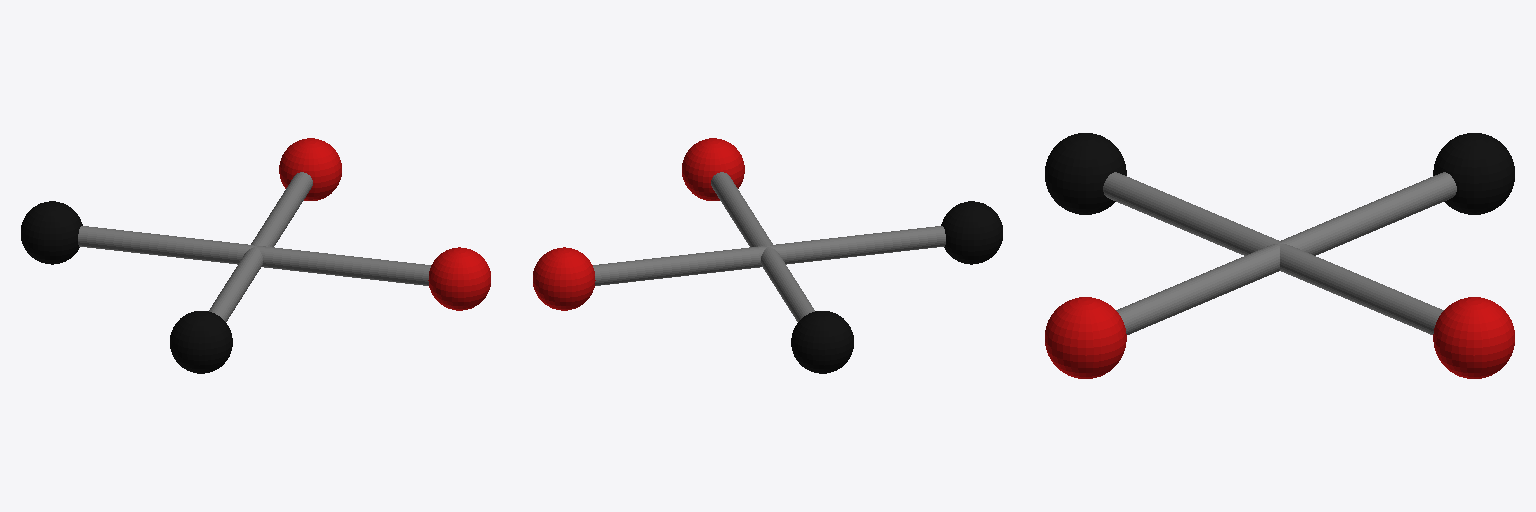
robot.urdf — general:
<?xml version="1.0" ?>

<!-- General quadrotor for wide domain randomization: two crossed arms and four motor spheres.
     The drone parameters and their randomization ranges are in hydra_configs/drone/general.yaml, whose
     nominals are written into Genesis at build. kf and km are in <properties> because Genesis needs them to
     load. Front motors red, back motors black. -->

<robot name="general">

  <properties kf="4.5e-8" km="5.4e-10" />

  <link name="base_link">

    <inertial>
      <origin rpy="0 0 0" xyz="0 0 0"/>
      <mass value="1.0"/>
      <inertia ixx="0.01" ixy="0.0" ixz="0.0" iyy="0.01" iyz="0.0" izz="0.016"/>
    </inertial>

    <visual>
      <origin rpy="0 1.570796 0.785398" xyz="0 0 0"/>
      <geometry>
        <cylinder radius="0.01" length="0.4"/>
      </geometry>
      <material name="grey"><color rgba="0.5 0.5 0.5 1"/></material>
    </visual>

    <visual>
      <origin rpy="0 1.570796 -0.785398" xyz="0 0 0"/>
      <geometry>
        <cylinder radius="0.01" length="0.4"/>
      </geometry>
      <material name="grey"><color rgba="0.5 0.5 0.5 1"/></material>
    </visual>

    <collision>
      <origin rpy="0 0 0" xyz="0 0 0"/>
      <geometry>
        <cylinder radius="0.05" length="0.04"/>
      </geometry>
    </collision>

  </link>

  <!-- Rotors as on the a300/x500: 0 front right (ccw), 1 back left (ccw), 2 front left (cw), 3 back right (cw),
       so propellers_spin=(-1, -1, 1, 1). Thrust is applied at each prop link's inertial origin. -->
  <link name="prop0_link">
    <inertial>
      <origin rpy="0 0 0" xyz="0.141421 -0.141421 0"/>
      <mass value="0"/>
      <inertia ixx="0" ixy="0" ixz="0" iyy="0" iyz="0" izz="0"/>
    </inertial>
    <visual>
      <origin rpy="0 0 0" xyz="0.141421 -0.141421 0"/>
      <geometry>
        <sphere radius="0.03"/>
      </geometry>
      <material name="red"><color rgba="0.8 0.1 0.1 1"/></material>
    </visual>
  </link>
  <joint name="prop0_joint" type="fixed">
    <parent link="base_link"/>
    <child link="prop0_link"/>
  </joint>

  <link name="prop1_link">
    <inertial>
      <origin rpy="0 0 0" xyz="-0.141421 0.141421 0"/>
      <mass value="0"/>
      <inertia ixx="0" ixy="0" ixz="0" iyy="0" iyz="0" izz="0"/>
    </inertial>
    <visual>
      <origin rpy="0 0 0" xyz="-0.141421 0.141421 0"/>
      <geometry>
        <sphere radius="0.03"/>
      </geometry>
      <material name="black"><color rgba="0.1 0.1 0.1 1"/></material>
    </visual>
  </link>
  <joint name="prop1_joint" type="fixed">
    <parent link="base_link"/>
    <child link="prop1_link"/>
  </joint>

  <link name="prop2_link">
    <inertial>
      <origin rpy="0 0 0" xyz="0.141421 0.141421 0"/>
      <mass value="0"/>
      <inertia ixx="0" ixy="0" ixz="0" iyy="0" iyz="0" izz="0"/>
    </inertial>
    <visual>
      <origin rpy="0 0 0" xyz="0.141421 0.141421 0"/>
      <geometry>
        <sphere radius="0.03"/>
      </geometry>
      <material name="red"><color rgba="0.8 0.1 0.1 1"/></material>
    </visual>
  </link>
  <joint name="prop2_joint" type="fixed">
    <parent link="base_link"/>
    <child link="prop2_link"/>
  </joint>

  <link name="prop3_link">
    <inertial>
      <origin rpy="0 0 0" xyz="-0.141421 -0.141421 0"/>
      <mass value="0"/>
      <inertia ixx="0" ixy="0" ixz="0" iyy="0" iyz="0" izz="0"/>
    </inertial>
    <visual>
      <origin rpy="0 0 0" xyz="-0.141421 -0.141421 0"/>
      <geometry>
        <sphere radius="0.03"/>
      </geometry>
      <material name="black"><color rgba="0.1 0.1 0.1 1"/></material>
    </visual>
  </link>
  <joint name="prop3_joint" type="fixed">
    <parent link="base_link"/>
    <child link="prop3_link"/>
  </joint>

</robot>

--- Render facts (derived) ---
Views: 3 orthographic renders of the robot side by side, from view 1: azimuth 30°, elevation 25°; view 2: azimuth 150°, elevation 25°; view 3: azimuth 270°, elevation 25°.
Model general with 5 links and 4 joints (4 fixed), rooted at base_link, posed all joints at 0.
Links seen in each view (by area): view 1: base_link, prop3_link, prop0_link, prop1_link, prop2_link; view 2: base_link, prop1_link, prop2_link, prop3_link, prop0_link; view 3: base_link, prop0_link, prop2_link, prop1_link, prop3_link.
Boxes of the visible links, x1,y1,x2,y2 form: base_link: (78, 172, 430, 321); prop3_link: (170, 311, 232, 373); prop0_link: (428, 247, 490, 310); prop1_link: (21, 201, 82, 264); prop2_link: (279, 138, 341, 200); base_link: (593, 172, 945, 321); prop1_link: (791, 311, 853, 373); prop2_link: (533, 247, 595, 310); prop3_link: (941, 201, 1002, 264); prop0_link: (682, 138, 744, 200); base_link: (1103, 172, 1456, 334); prop0_link: (1045, 297, 1126, 378); prop2_link: (1433, 297, 1514, 378); prop1_link: (1433, 133, 1514, 214); prop3_link: (1045, 133, 1126, 214).
Size in the robot's own frame: 0.3428 by 0.3428 by 0.06 metres.
Geometry: primitives only (box / cylinder / sphere), no mesh files.
